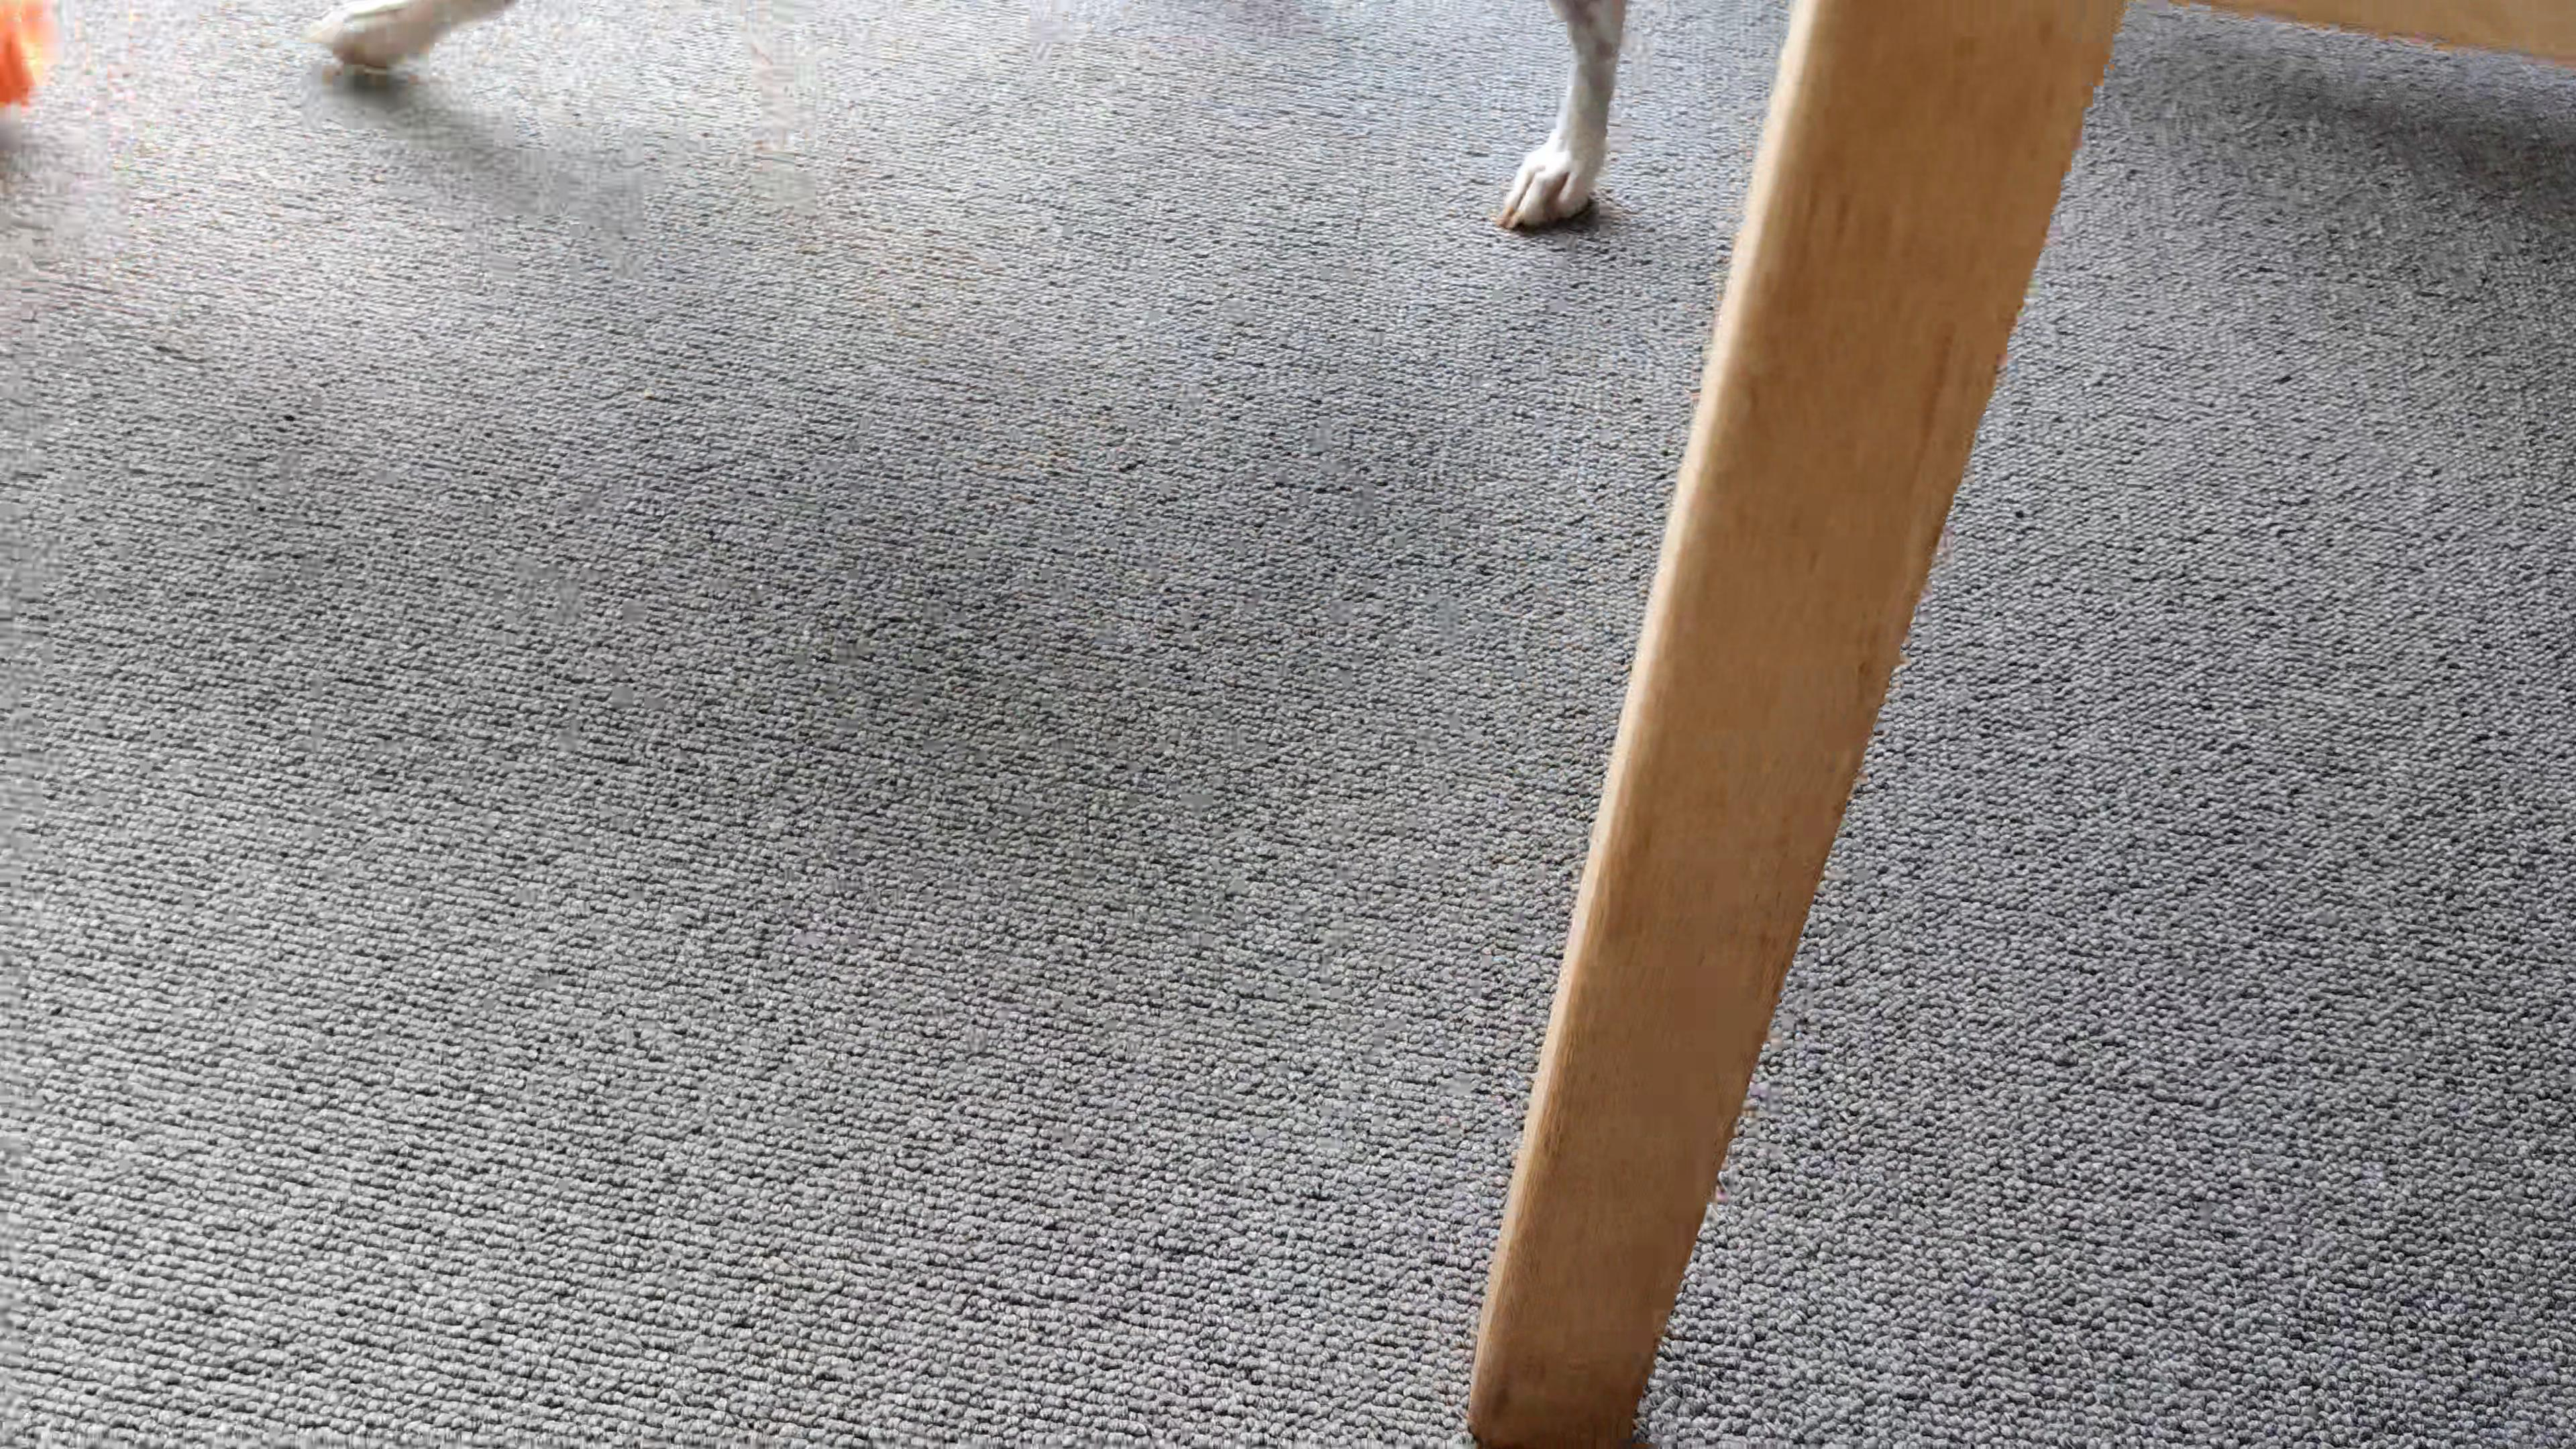Dog: (280, 0, 1700, 257)
